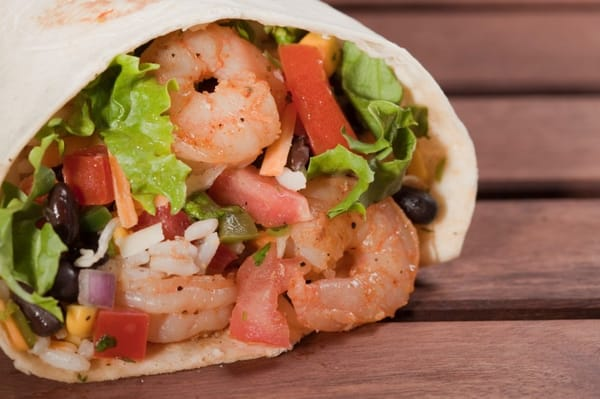curry: (9, 2, 599, 394)
